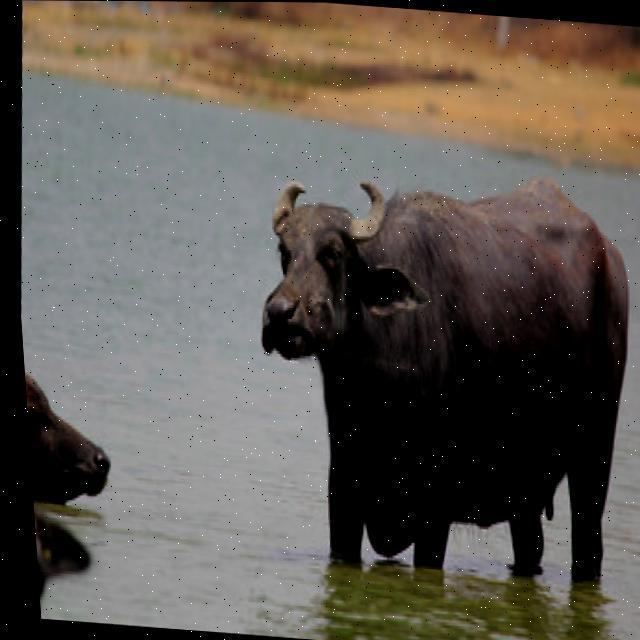Buffalo: (235, 172, 640, 576)
